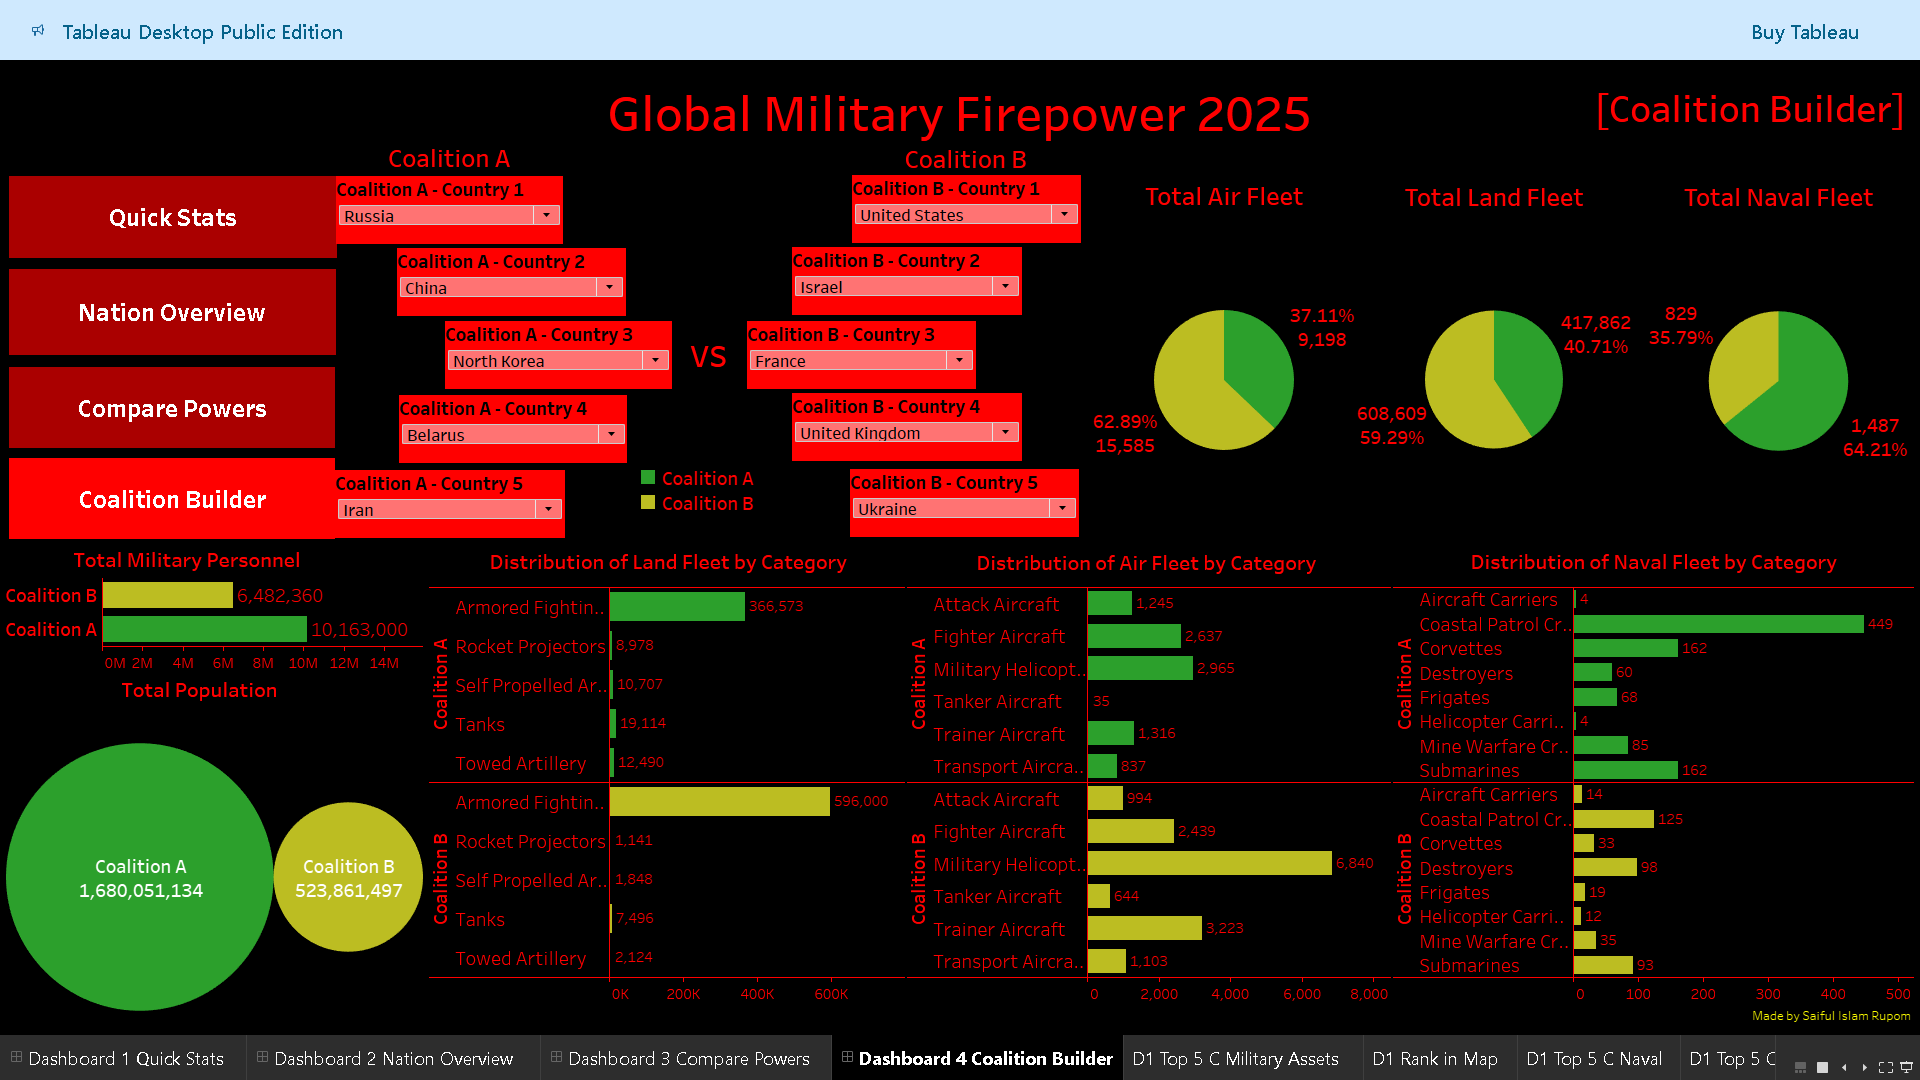

Layout of this report page (visuals, bound fields, positions):
{"tool":"tableau","page":{"name":"Dashboard 4 Coalition Builder","canvas":[1000,1000],"units":"permille","ordinal":3},"visuals":[{"type":"text","box":[826.2,5.4,171.1,88.5]},{"type":"text","box":[192.6,81.8,82.3,36.2]},{"type":"text","box":[463.2,83.1,79.8,34.9]},{"type":"dashboard-object","box":[3.7,116.6,172.7,88.5]},{"type":"parameter","param":"[Parameters].[Parameter 8]","box":[443.9,118,119.1,69.7]},{"type":"worksheet","title":"D4 Air Fleet Com","mark":"Pie","box":[564.8,118,145.9,371.3]},{"type":"parameter","param":"[Parameters].[Parameter 3]","box":[175.2,119.3,118.5,69.7]},{"type":"worksheet","title":"D4 Land Fleet Com","mark":"Pie","box":[706.4,119.3,144,368.6]},{"type":"worksheet","title":"D4 Naval Fleet Com","mark":"Pie","box":[853.5,119.3,145.3,371.3]},{"type":"parameter","param":"[Parameters].[Parameter 9]","box":[412.7,191.7,119.7,69.7]},{"type":"parameter","param":"[Parameters].[Parameter 4]","box":[207,193,119.1,69.7]},{"type":"dashboard-object","box":[3.7,211.8,172.2,92.5]},{"type":"parameter","param":"[Parameters].[Parameter 5]","box":[231.9,268.1,118.5,69.7]},{"type":"parameter","param":"[Parameters].[Parameter 10]","box":[389,268.1,119.1,69.7]},{"type":"text","box":[351.6,280.2,31.2,44.2]},{"type":"dashboard-object","box":[3.7,312.3,171.6,87.1]},{"type":"parameter","param":"[Parameters].[Parameter 11]","box":[412.7,341.8,119.7,69.7]},{"type":"parameter","param":"[Parameters].[Parameter 6]","box":[207.6,343.2,119.1,69.7]},{"type":"dashboard-object","box":[3.7,406.2,171.6,87.1]},{"type":"legend","title":"D4 Population Com","param":"[federated.04j63lw0p5v43o137wemf0y1v2ac].[none:Calculation_1222445837863448579:n","box":[331.1,415.6,78.5,72.4]},{"type":"parameter","param":"[Parameters].[Parameter 12]","box":[442.6,419.6,119.1,69.7]},{"type":"parameter","param":"[Parameters].[Parameter 7]","box":[174.6,420.9,119.7,69.7]},{"type":"text","box":[36.2,492,152.1,40.2]},{"type":"text","box":[230.1,492,235.7,44.2]},{"type":"text","box":[743.8,492,235,44.2]},{"type":"text","box":[481.3,493.3,231.3,44.2]},{"type":"worksheet","title":"D4 Military Per Com","mark":"Automatic","rows":["Calculation_1222445837863448579"],"cols":["Calculation_1169528541207019522"],"box":[1.2,530.8,219.5,96.5]},{"type":"worksheet","title":"D4 Land Fleet Dist","mark":"Automatic","rows":["Calculation_1222445837863448579"],"box":[223.2,540.2,248.1,431.6]},{"type":"worksheet","title":"D4 Air Fleet Dist","mark":"Automatic","rows":["Calculation_1222445837863448579"],"box":[472.6,540.2,251.9,431.6]},{"type":"worksheet","title":"D4 Naval Fleet Dist","mark":"Automatic","rows":["Calculation_1222445837863448579"],"box":[725.7,540.2,271.2,431.6]},{"type":"text","box":[61.1,626,102.9,40.2]},{"type":"worksheet","title":"D4 Population Com","mark":"Circle","box":[3.1,676.9,217,321.7]},{"type":"worksheet","title":"D* My Name and Link","mark":"Automatic","box":[887.2,963.8,110.4,29.5]}]}

Visuals, with their boxes on the dashboard's canvas, which has no fixed pixel size, in thousandths of its width and height (x1, y1, x2, y2). These are canvas units, not pixel positions in the 1920x1080 screenshot, which may show the page scaled, cropped or inside an application window:
text: region(826, 5, 997, 94)
text: region(193, 82, 275, 118)
text: region(463, 83, 543, 118)
dashboard-object: region(4, 117, 176, 205)
parameter: region(444, 118, 563, 188)
"D4 Air Fleet Com" worksheet (Pie marks): region(565, 118, 711, 489)
parameter: region(175, 119, 294, 189)
"D4 Land Fleet Com" worksheet (Pie marks): region(706, 119, 850, 488)
"D4 Naval Fleet Com" worksheet (Pie marks): region(854, 119, 999, 491)
parameter: region(413, 192, 532, 261)
parameter: region(207, 193, 326, 263)
dashboard-object: region(4, 212, 176, 304)
parameter: region(232, 268, 350, 338)
parameter: region(389, 268, 508, 338)
text: region(352, 280, 383, 324)
dashboard-object: region(4, 312, 175, 399)
parameter: region(413, 342, 532, 412)
parameter: region(208, 343, 327, 413)
dashboard-object: region(4, 406, 175, 493)
"D4 Population Com" legend: region(331, 416, 410, 488)
parameter: region(443, 420, 562, 489)
parameter: region(175, 421, 294, 491)
text: region(36, 492, 188, 532)
text: region(230, 492, 466, 536)
text: region(744, 492, 979, 536)
text: region(481, 493, 713, 538)
"D4 Military Per Com" worksheet: region(1, 531, 221, 627)
"D4 Land Fleet Dist" worksheet: region(223, 540, 471, 972)
"D4 Air Fleet Dist" worksheet: region(473, 540, 724, 972)
"D4 Naval Fleet Dist" worksheet: region(726, 540, 997, 972)
text: region(61, 626, 164, 666)
"D4 Population Com" worksheet (Circle marks): region(3, 677, 220, 999)
"D* My Name and Link" worksheet: region(887, 964, 998, 993)
